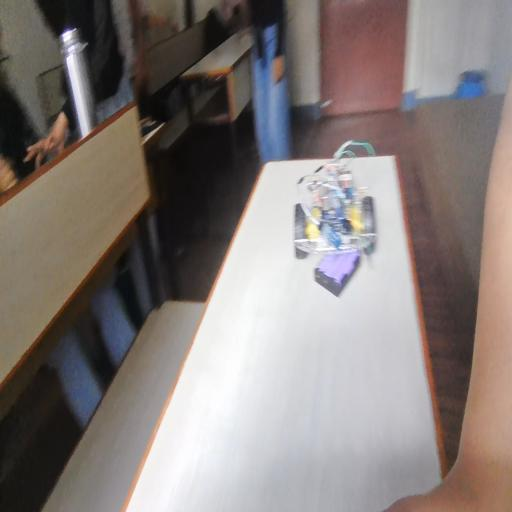car: (289, 156, 385, 288)
